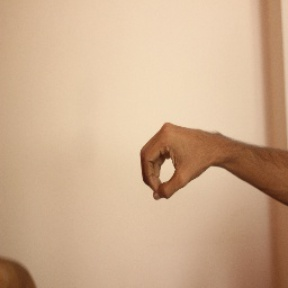O: (135, 113, 224, 199)
